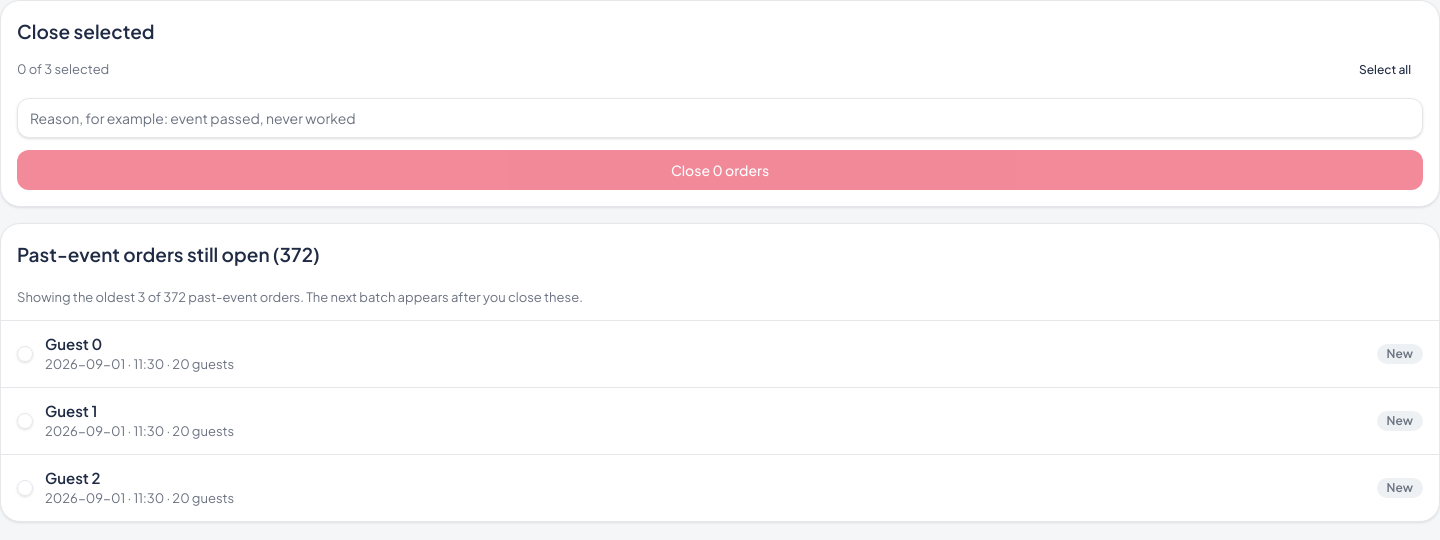
Test case: StaleOrdersCloser › Select all picks only the orders on screen, not the whole backlog
Click the button "Select all".
click(1385, 70)  # box x1=1347 y1=54 x2=1423 y2=86
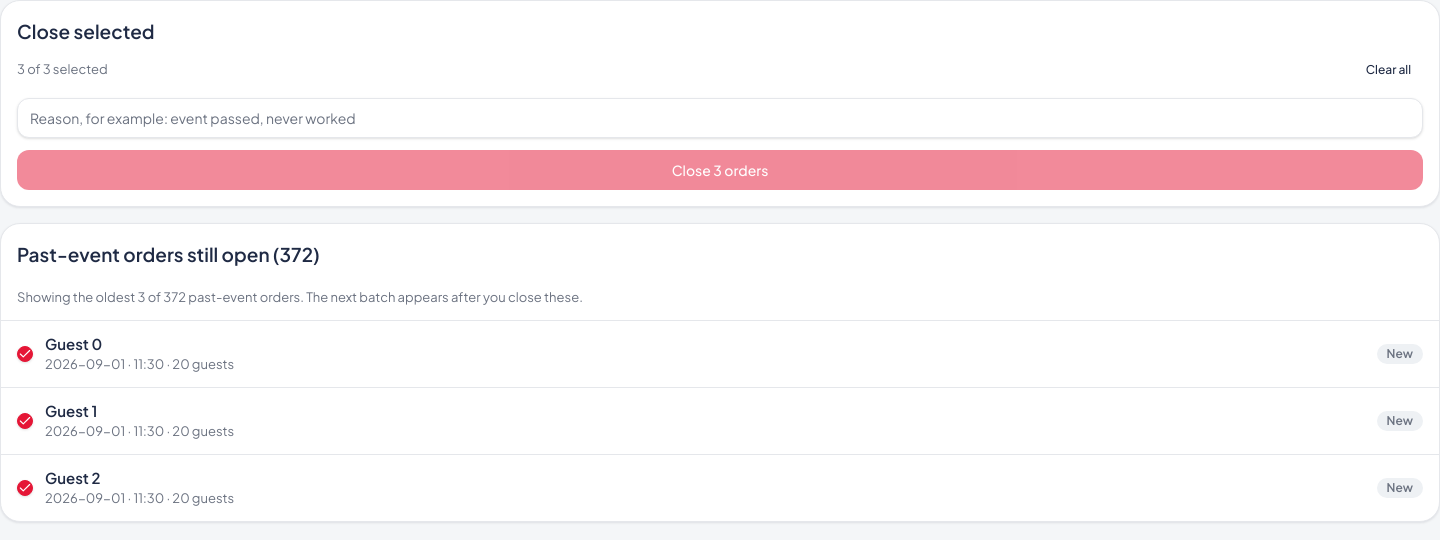
Now the text "3 of 3 selected" is shown, box x1=17 y1=60 x2=108 y2=79
Now the button "Close 3 orders" is shown, box x1=17 y1=150 x2=1423 y2=190
